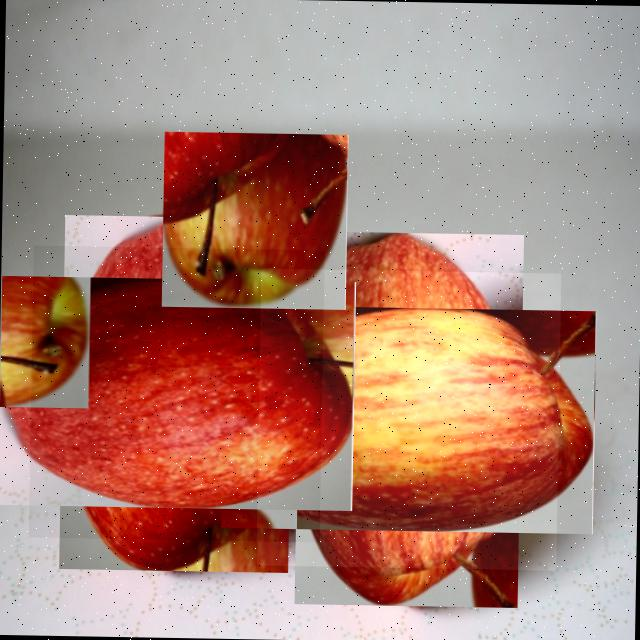Fresh Apple: (256, 268, 561, 572), (27, 245, 324, 543), (160, 132, 348, 311)
